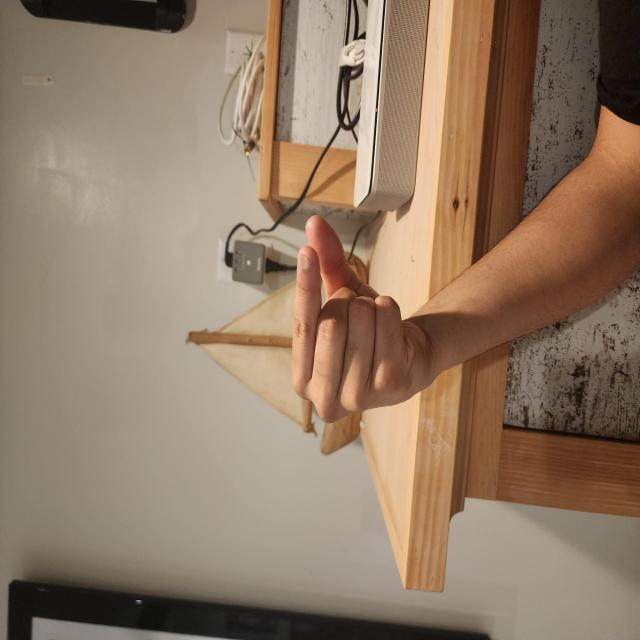G: (156, 383, 325, 590)
